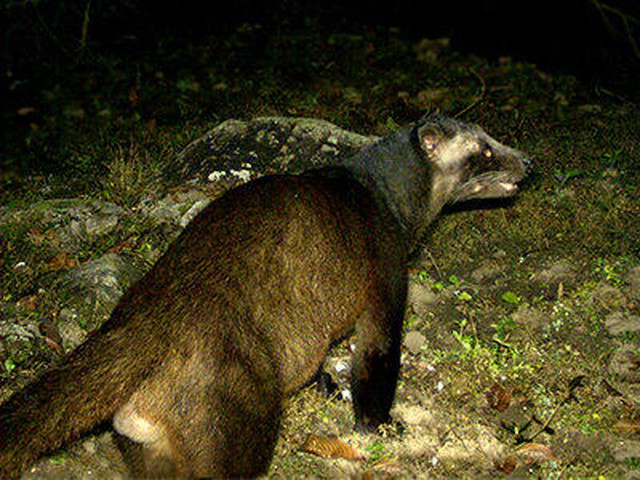civet: (10, 102, 534, 474)
